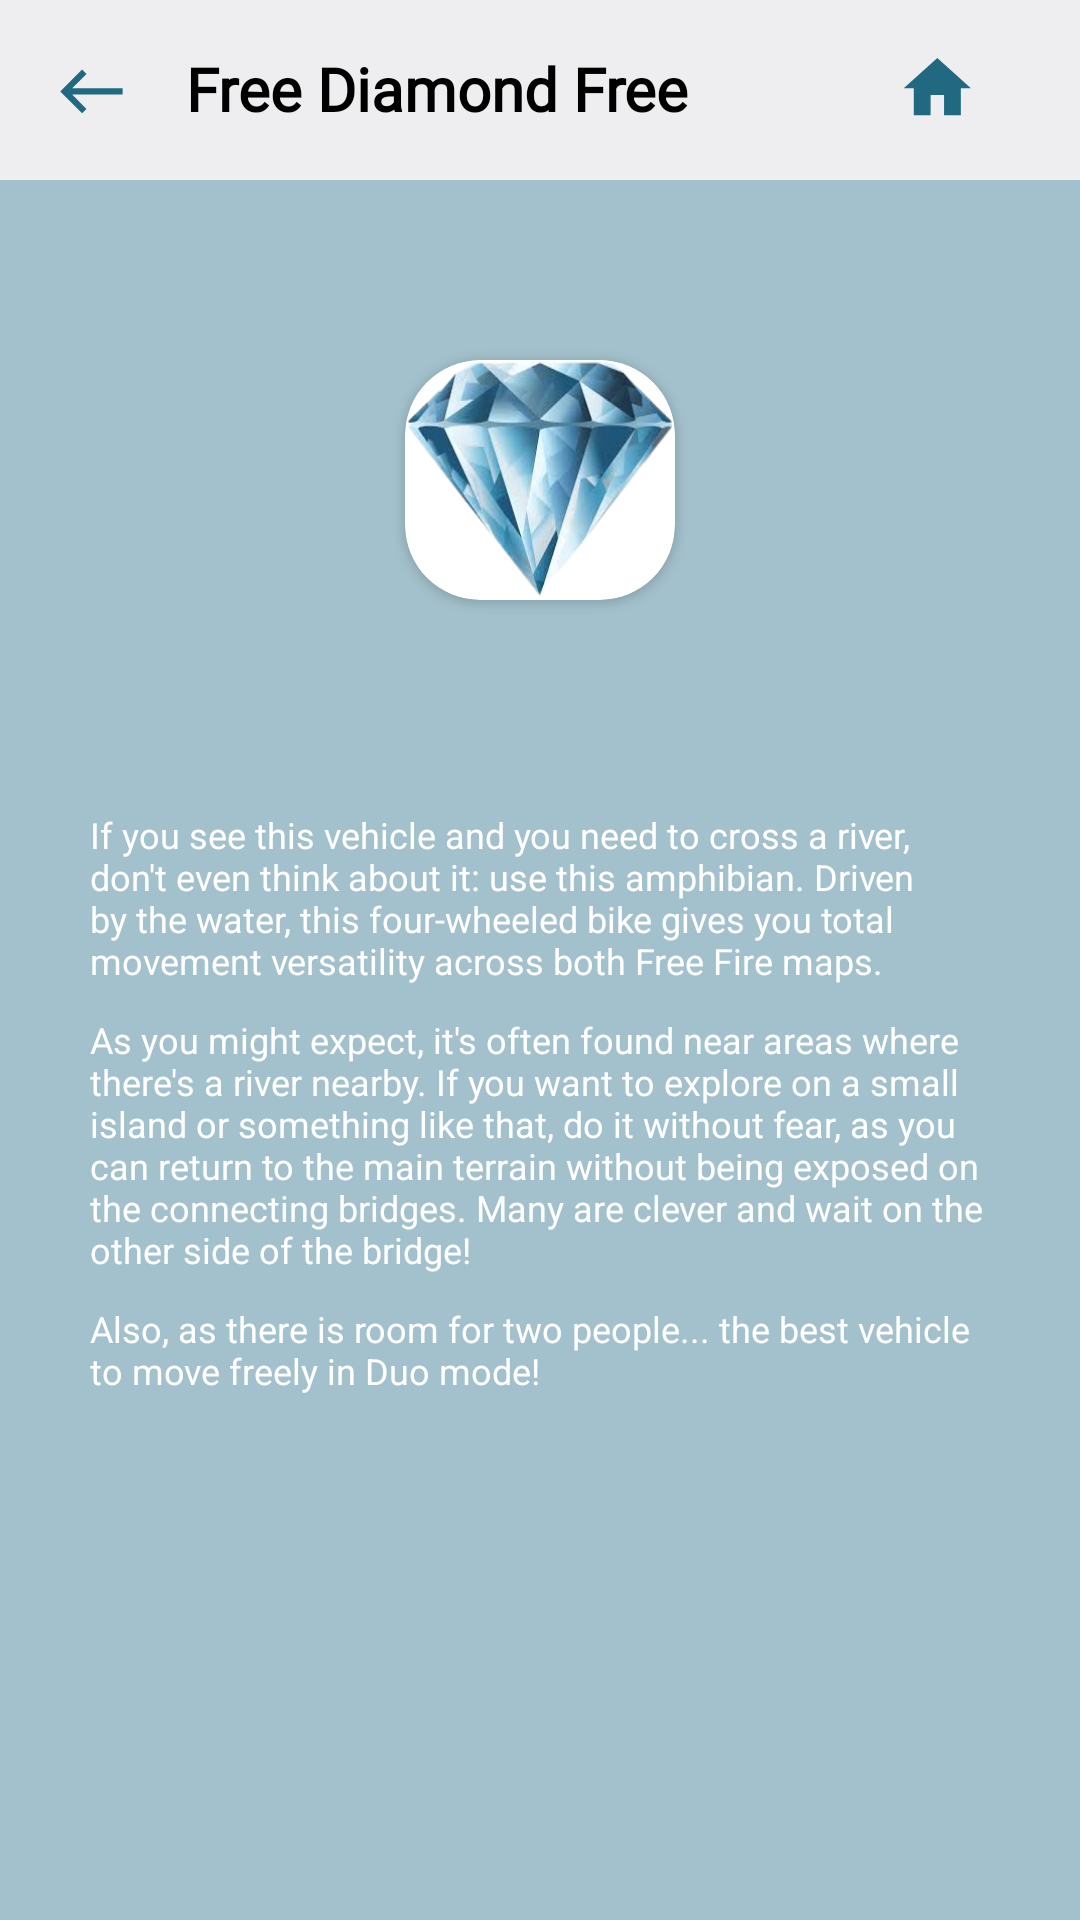

Icons on this 1080w x 1920h Android screen, each with its box as (x1, y1, x2, y2):
back: (60, 69, 123, 113)
home: (904, 58, 971, 116)
